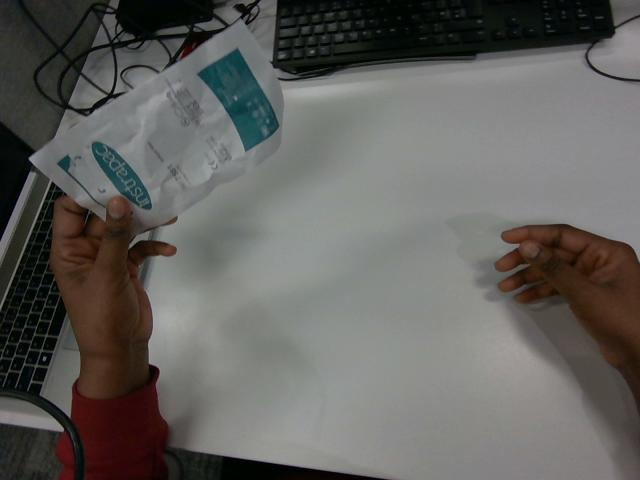gallipot: (30, 22, 282, 232)
